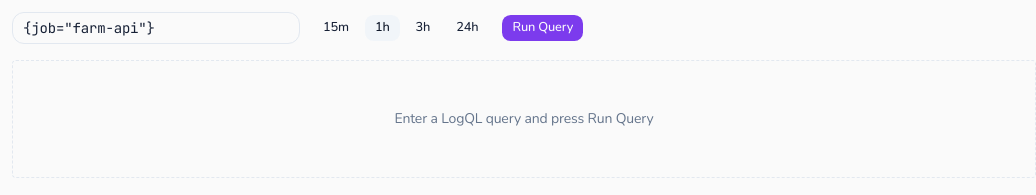
Test: LogsTab › displays log lines and the line counter after a successful query
The image size is (1036, 195).
Click the button "Run Query": (543, 28) [502,14,584,42]
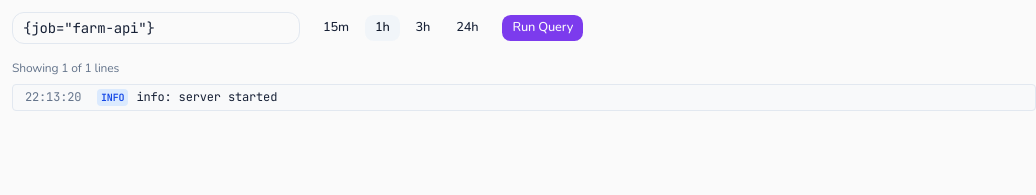
Now the text "info: server started" is shown, box [136,89,277,106]
Now the text "Showing 1 of 1 lines" is shown, box [12,60,119,76]
